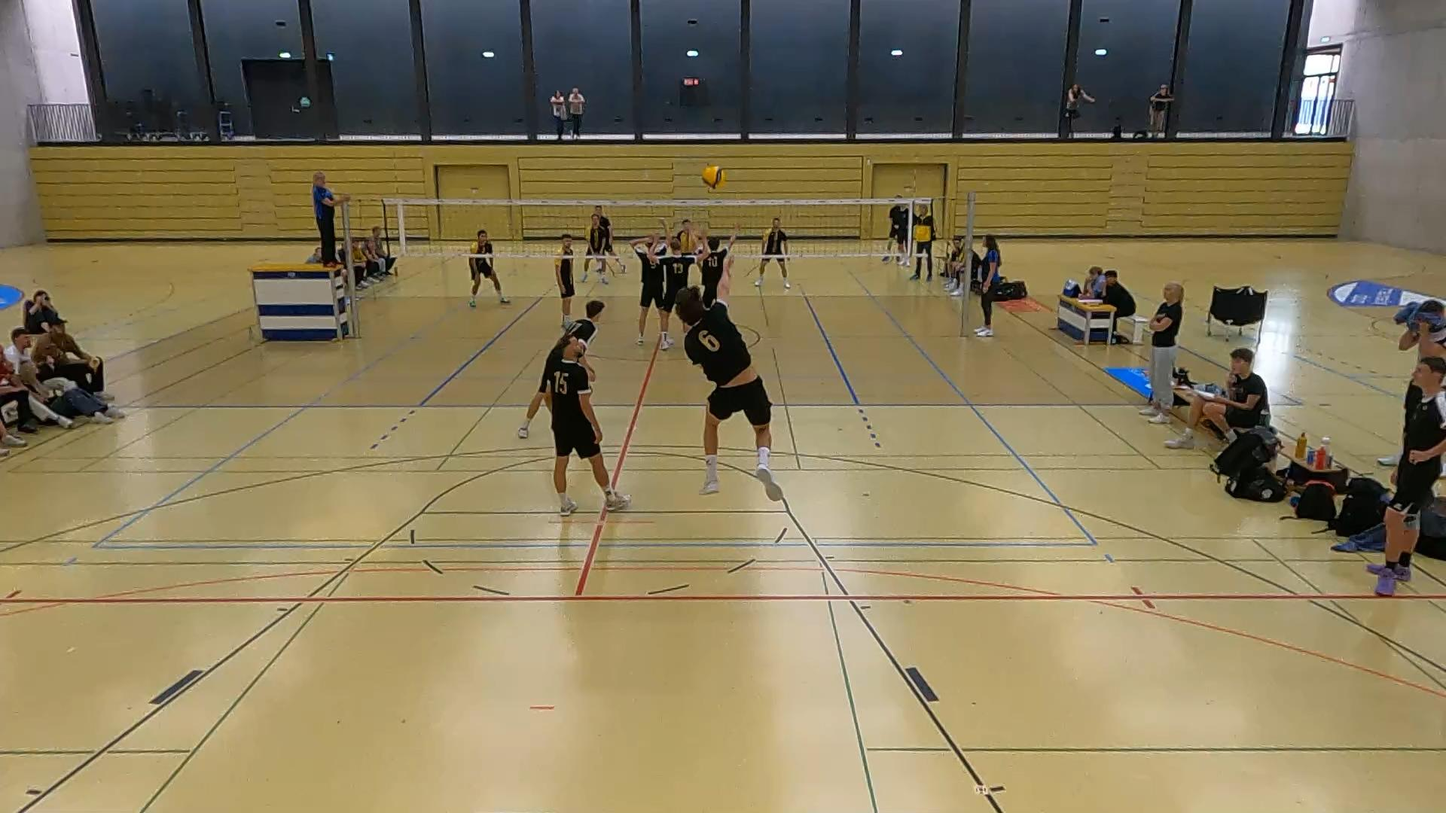battuta: (672, 251, 790, 509)
